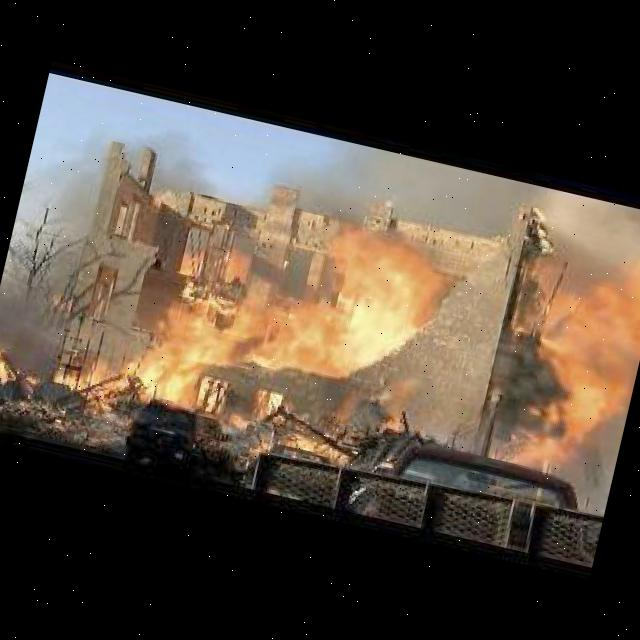fire: (58, 152, 640, 506)
